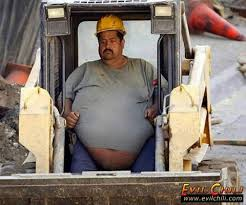hard hat: (93, 15, 126, 34)
